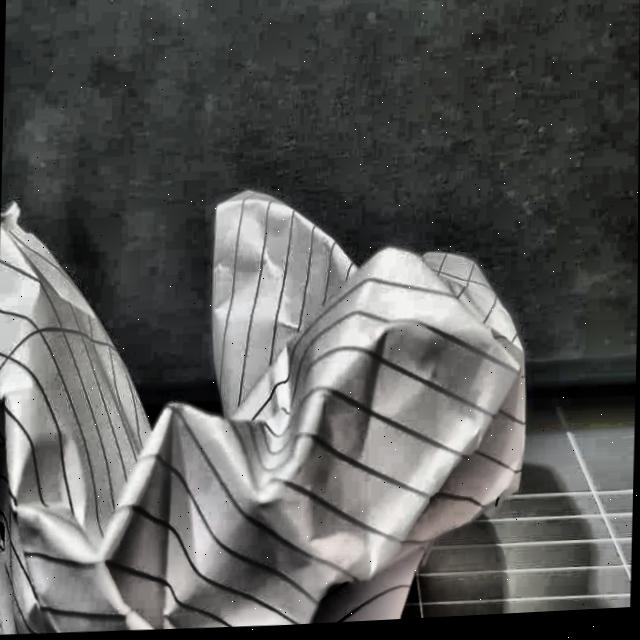paper: (0, 196, 534, 640)
